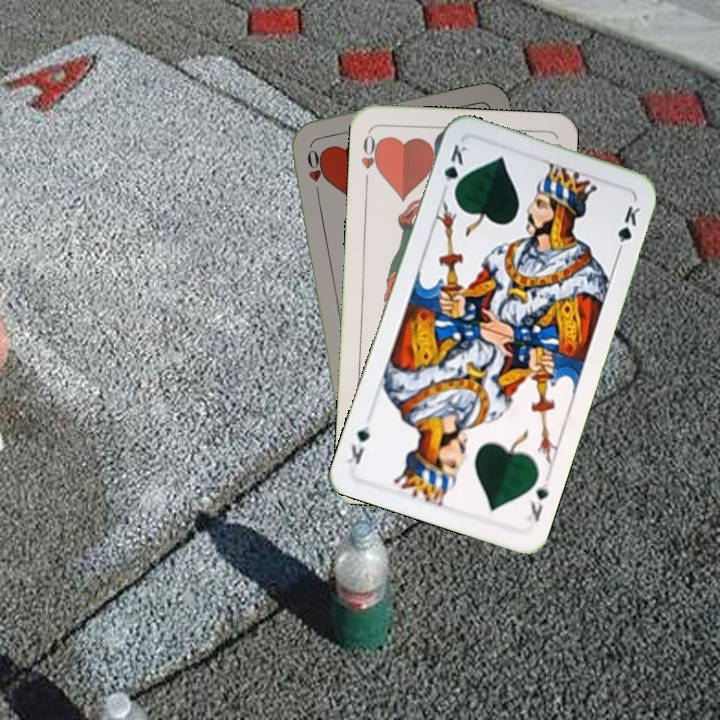GK: (440, 140, 472, 198), (522, 478, 552, 524)
HO: (357, 129, 383, 188), (303, 140, 326, 200)
